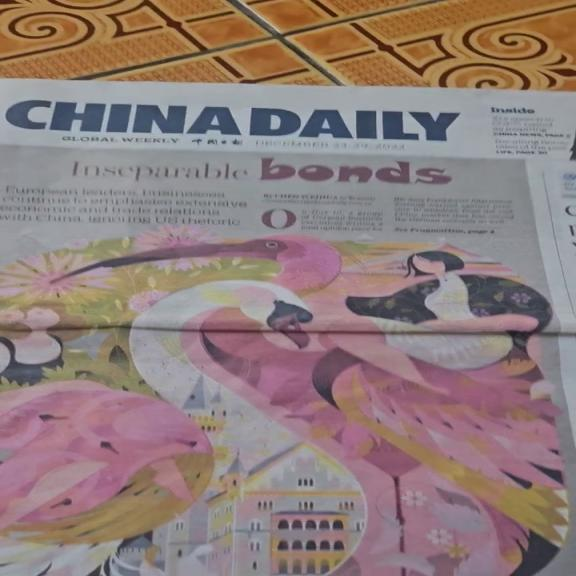Kertas: (3, 73, 569, 572)
